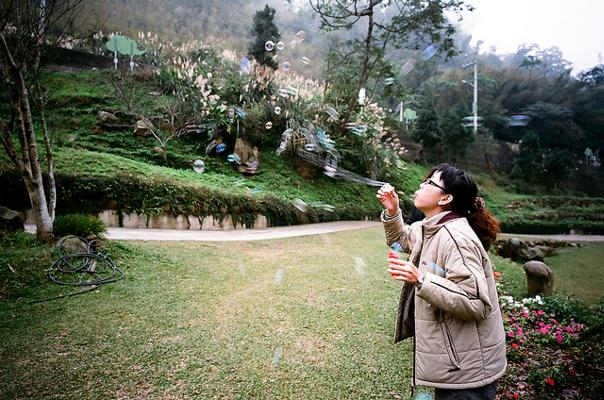person: (375, 166, 508, 400)
